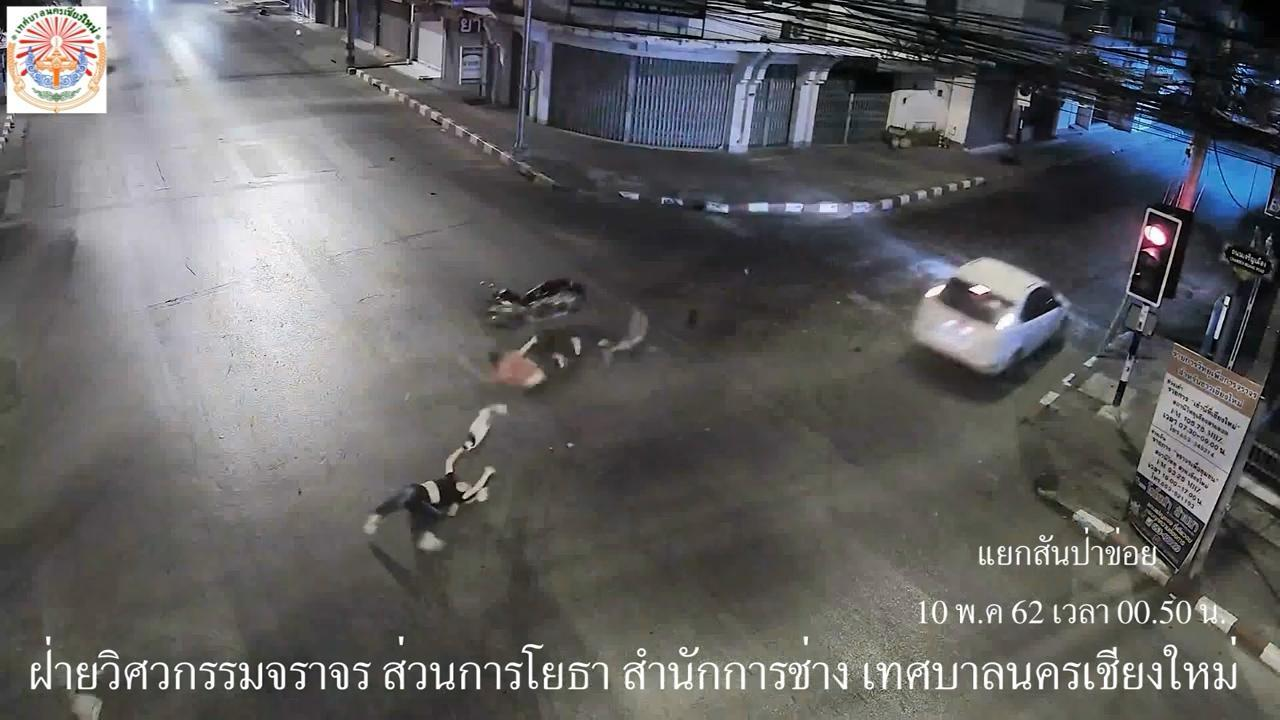accident: (359, 447, 484, 562), (479, 332, 600, 398)
